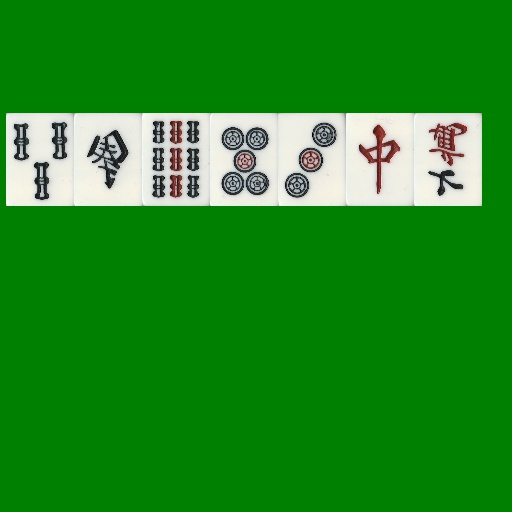3p: (278, 113, 346, 206)
3s: (6, 113, 74, 206)
5p: (210, 113, 278, 206)
7m: (414, 113, 482, 206)
9s: (142, 113, 210, 206)
south: (74, 113, 142, 206)
tyun: (346, 113, 414, 206)
